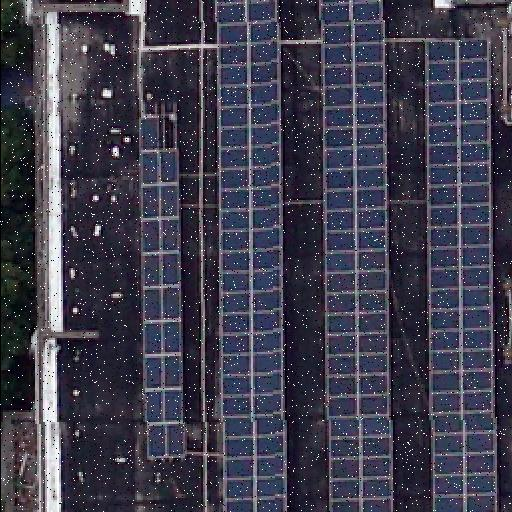solar-panel: (319, 0, 393, 512), (213, 0, 283, 512), (426, 40, 494, 512), (139, 117, 181, 459)
